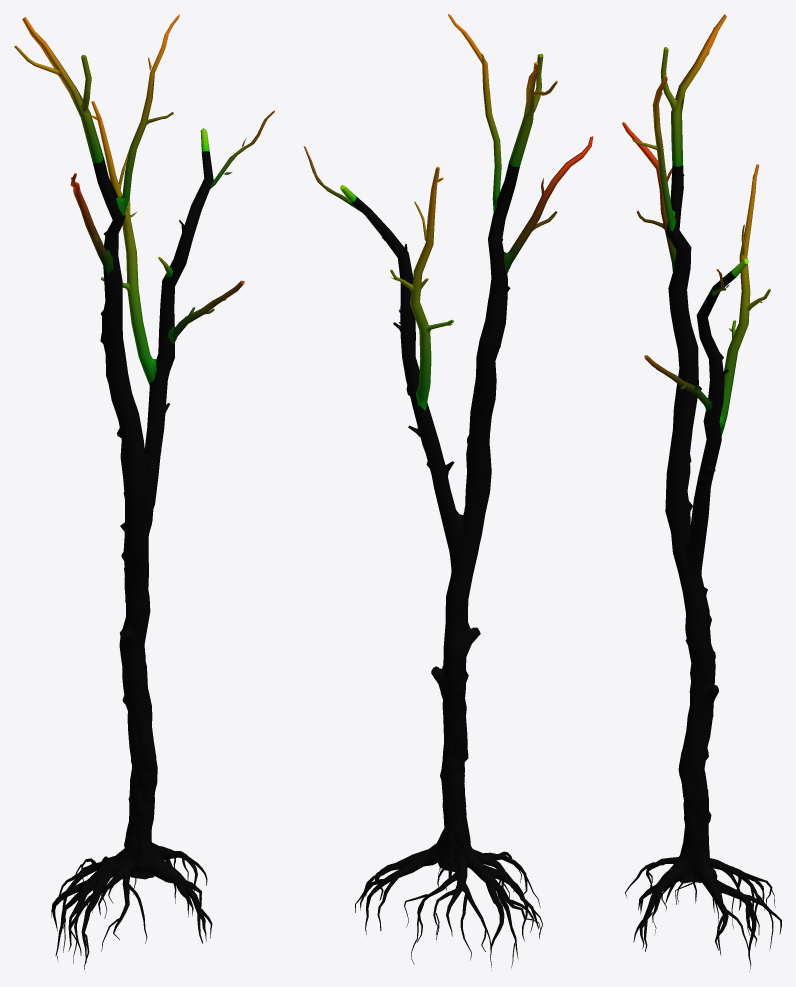
File: SM_EuropeanBeech_Dead_XL_01.fbx
3 renders of one model, left to right at view 1: azimuth 30°, elevation 25°; view 2: azimuth 150°, elevation 25°; view 3: azimuth 270°, elevation 25°, orthographic. The views are drawn at different scales.
Parts seen in each view (by area): view 1: SM_EuropeanBeech_Dead_XL_01_LOD0; view 2: SM_EuropeanBeech_Dead_XL_01_LOD0; view 3: SM_EuropeanBeech_Dead_XL_01_LOD0.
Part boxes in pixels (x1,y1,x2,y2): SM_EuropeanBeech_Dead_XL_01_LOD0: (14, 14, 274, 972); SM_EuropeanBeech_Dead_XL_01_LOD0: (303, 14, 593, 970); SM_EuropeanBeech_Dead_XL_01_LOD0: (622, 14, 781, 971).
Size of what is drawn, in the model's own units: 598 by 335 by 2075.
